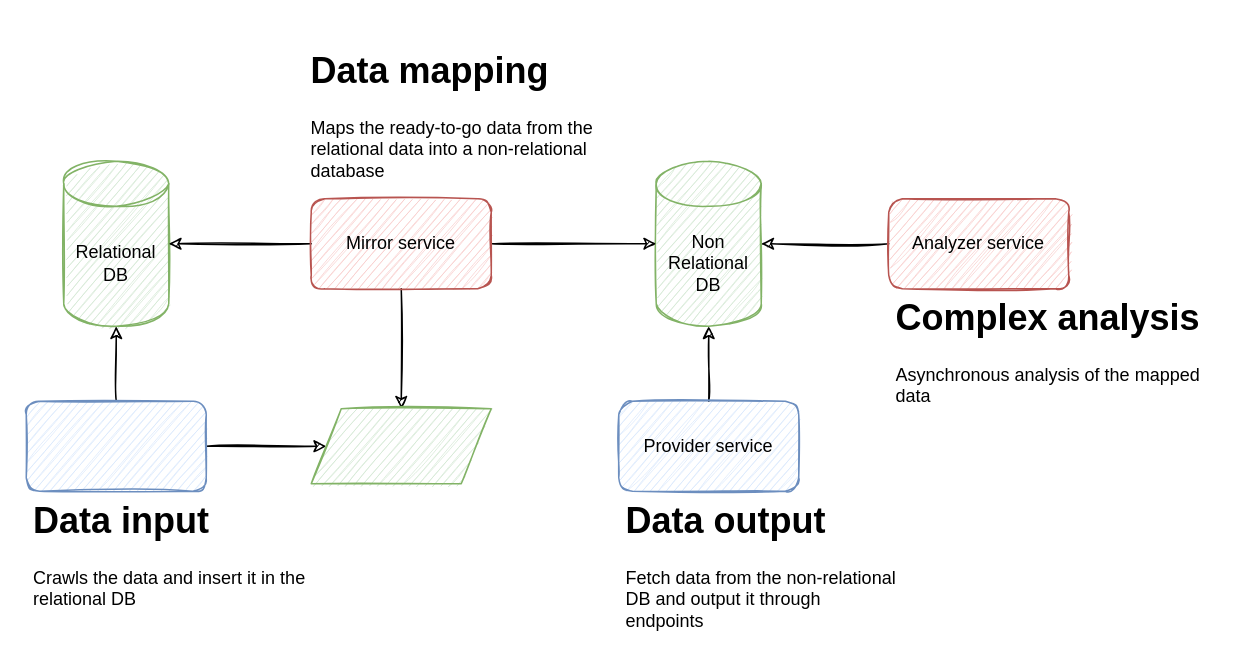
Some shapes in this 1253 by 666 pixel diagram are drawn without their labels. The box of each missing label's shape, as (x1, y1, x2, y2) in pixels:
Crawler service: (25, 400, 206, 491)
Queue: (310, 407, 491, 484)
